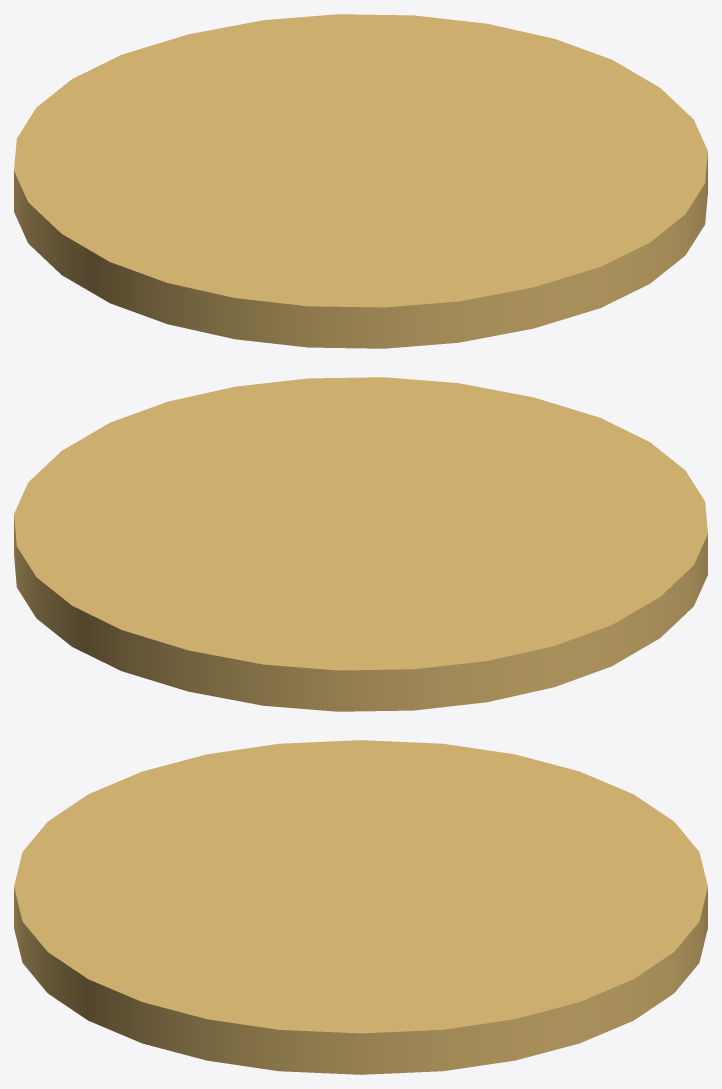
The model's file is Ground.fbx.
3 views of the same model, one above another, from view 1: azimuth 30°, elevation 25°; view 2: azimuth 150°, elevation 25°; view 3: azimuth 270°, elevation 25° (orthographic).
Parts seen in each view (by area): view 1: Grond; view 2: Grond; view 3: Grond.
Part boxes in pixels (left/top/right/bottom): Grond: left=14, top=14, right=707, bottom=348; Grond: left=14, top=377, right=707, bottom=711; Grond: left=14, top=740, right=707, bottom=1074.
Size of the model in its own units: 25000 by 1646 by 25000.
